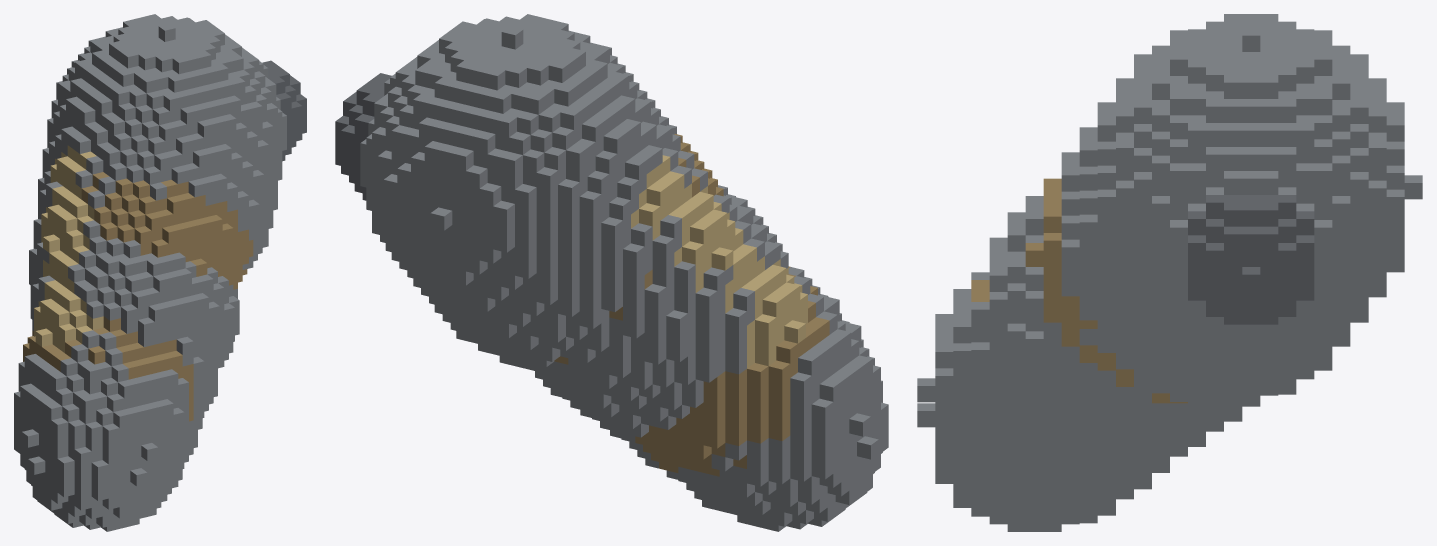
File: lf_thigh.glb
The picture shows the model from 3 angles, left to right: view 1: azimuth 30°, elevation 25°; view 2: azimuth 150°, elevation 25°; view 3: azimuth 270°, elevation 25°; orthographic projection. The views are drawn at different scales.
Size of the model in its own units: 32 by 36 by 28.
